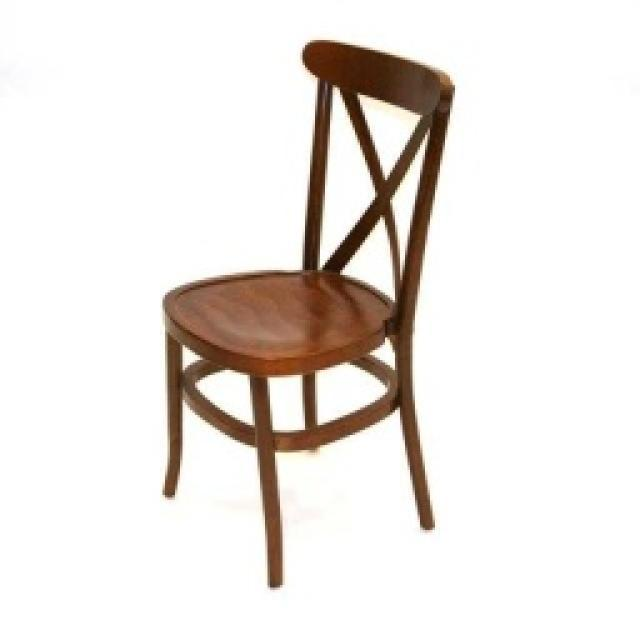sandalye: (160, 38, 455, 588)
